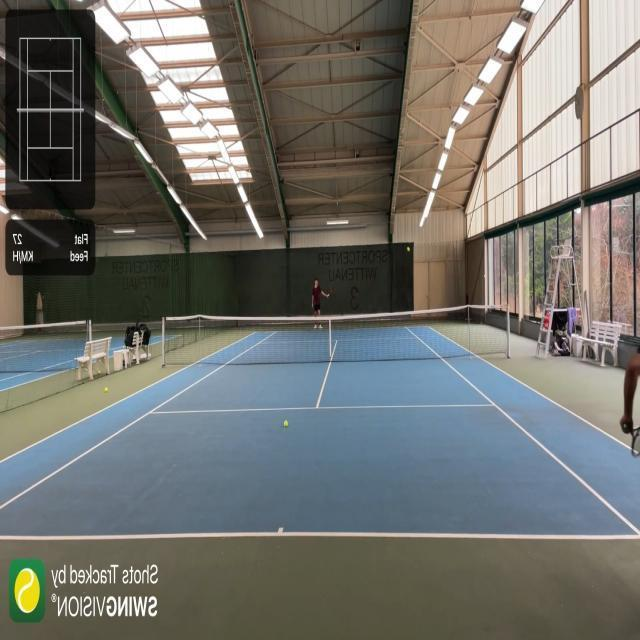court: (0, 326, 640, 542)
net: (160, 301, 511, 363)
